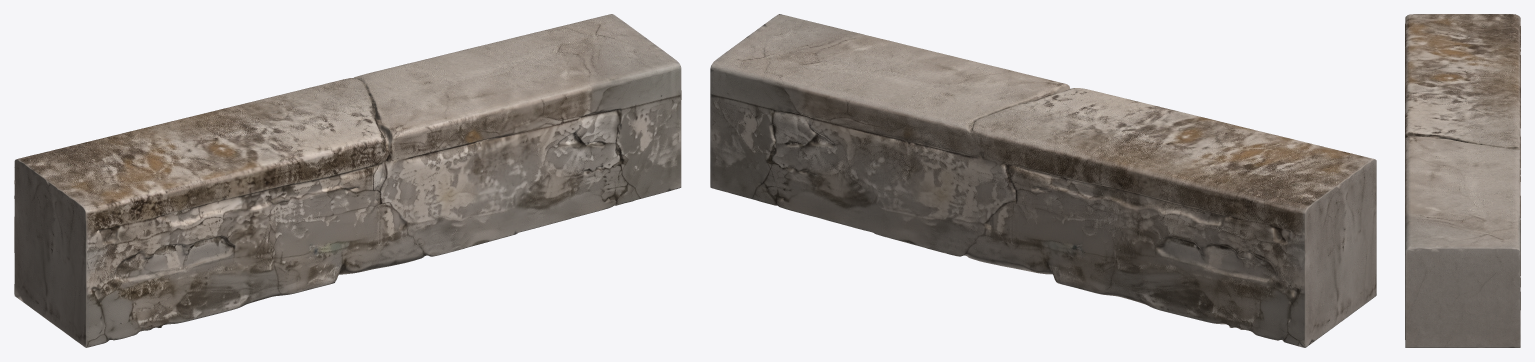
File: Meshy_AI_Weathered_Concrete_Le_0913174410_texture.fbx
3 renders of one model, left to right at view 1: azimuth 30°, elevation 25°; view 2: azimuth 150°, elevation 25°; view 3: azimuth 270°, elevation 25°, orthographic. The views are drawn at different scales.
Visible parts, largest first — view 1: Mesh_0; view 2: Mesh_0; view 3: Mesh_0.
Boxes of the visible parts, x1=… form: Mesh_0: x1=14, y1=14, x2=681, y2=347; Mesh_0: x1=710, y1=14, x2=1376, y2=347; Mesh_0: x1=1405, y1=14, x2=1520, y2=347.
Bounding box in the file's own units: 190 × 42.54 × 39.66.
Materials: 1 (1 with a texture image).
